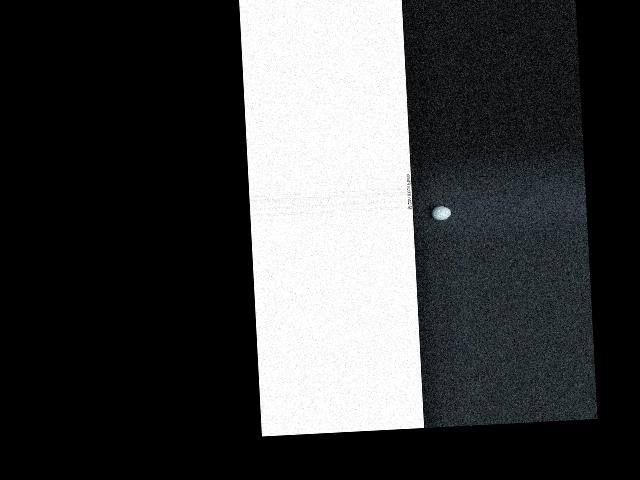egg: (431, 205, 451, 220)
